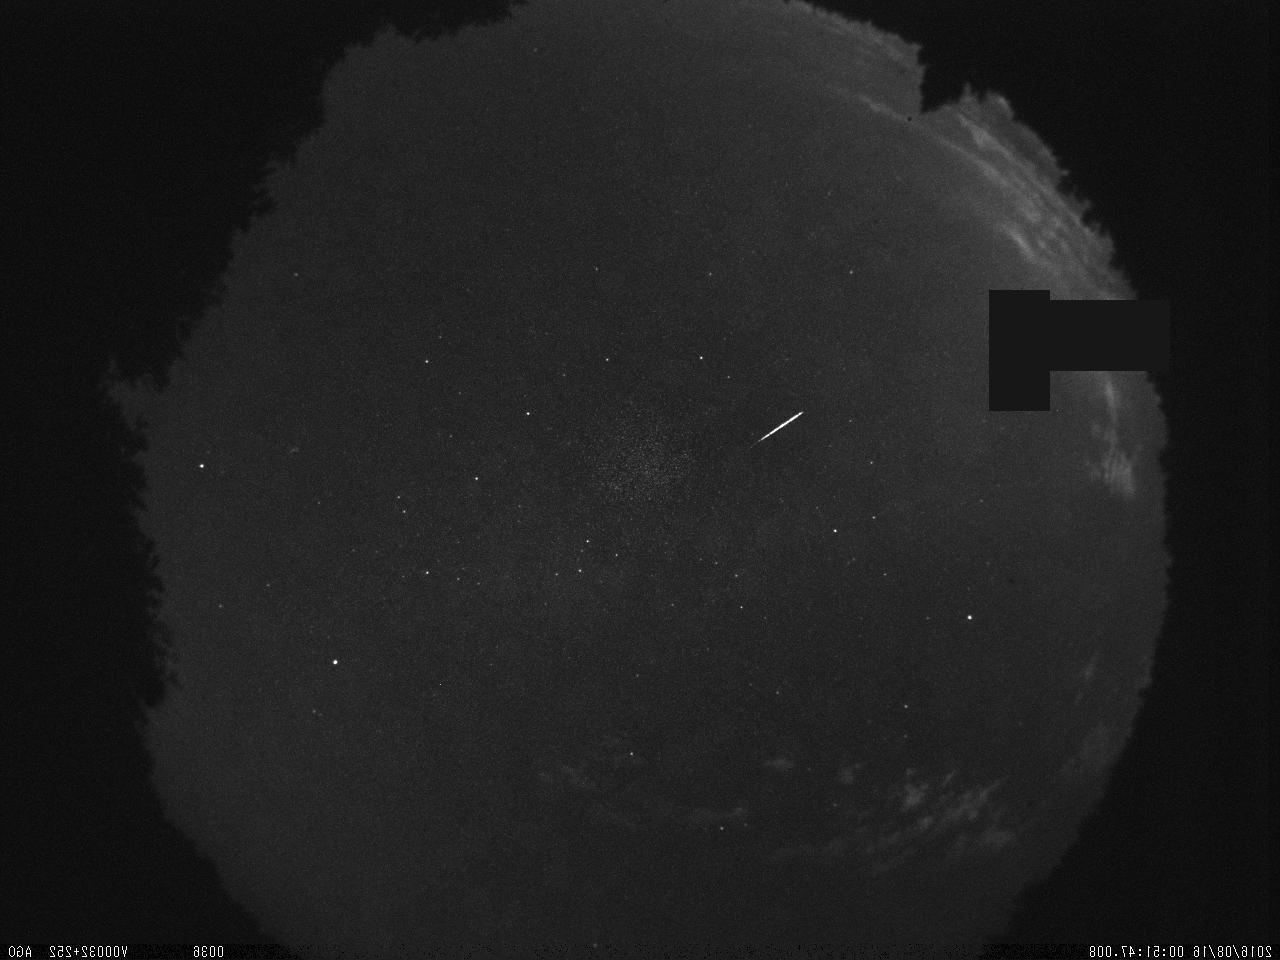meteor: (741, 406, 808, 456)
